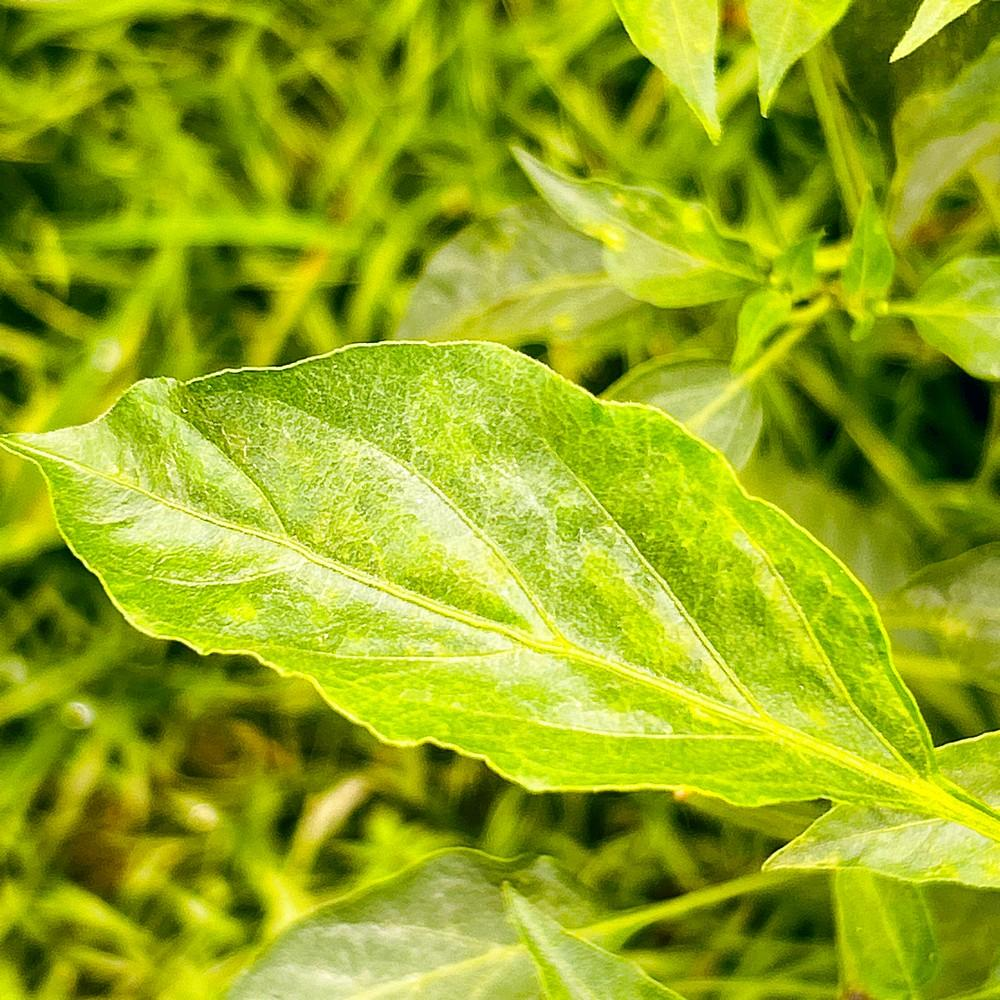Daun Cabai Sehat: (0, 335, 998, 884)
